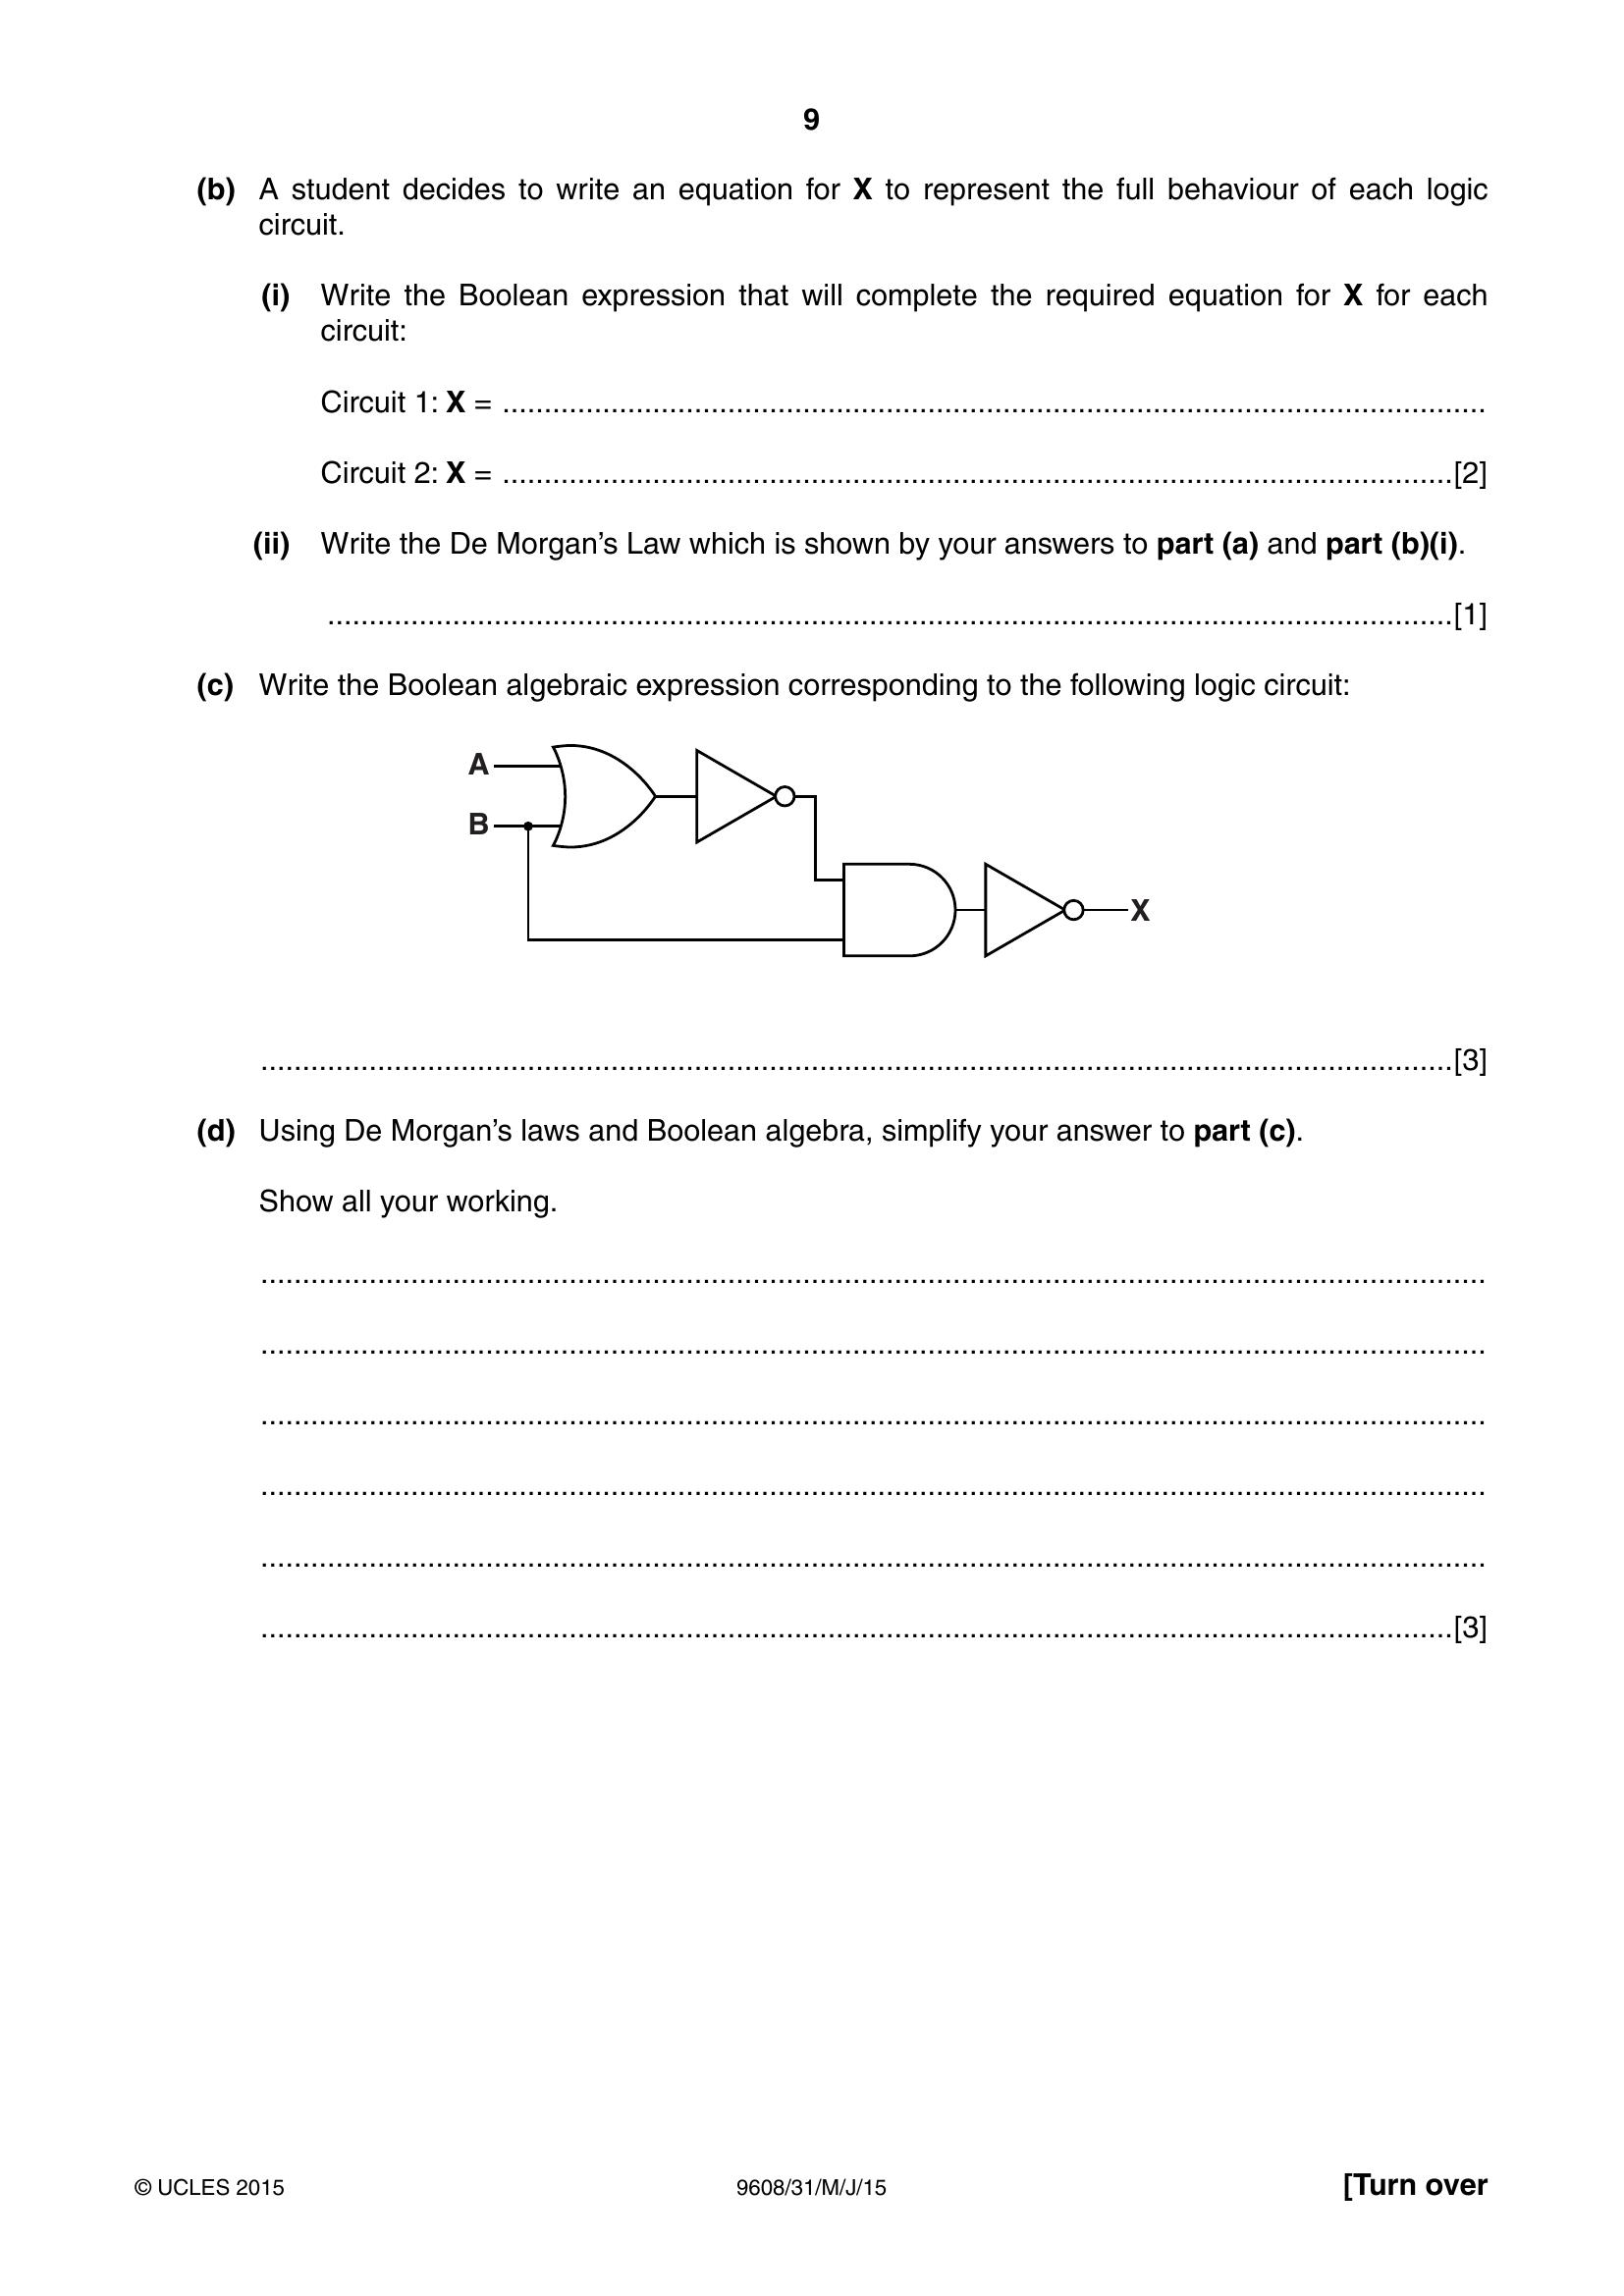continued question: (16, 139, 1624, 1823)
